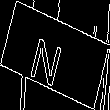N_N: (35, 25, 75, 85)
